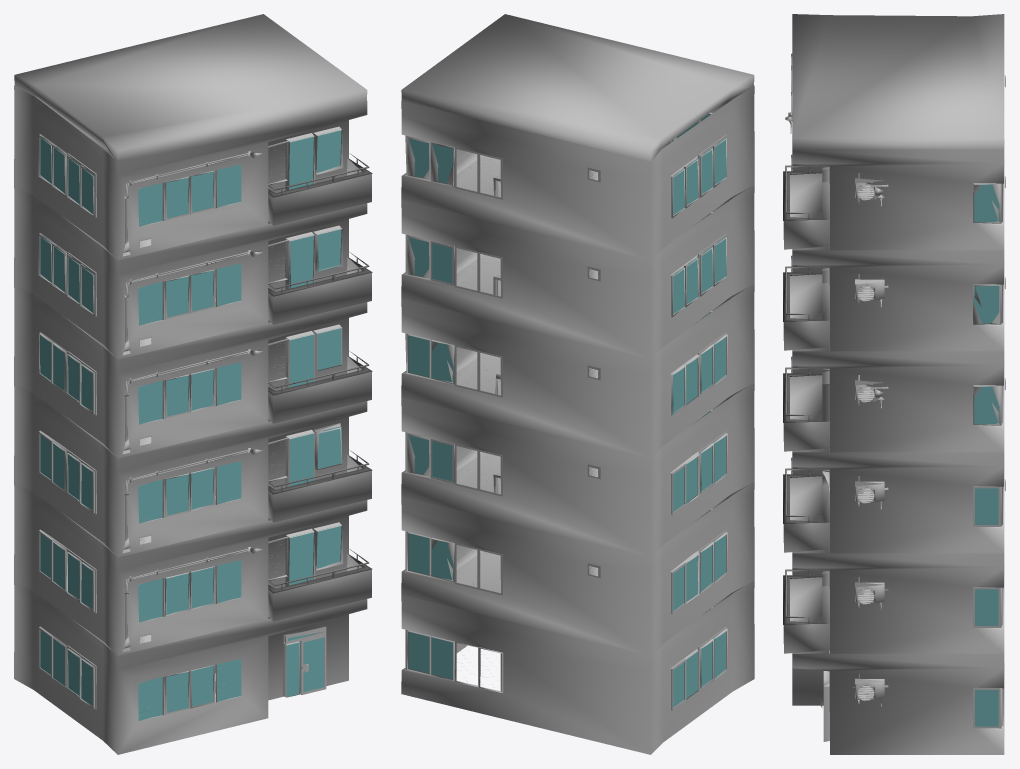
The model's file is apartment_building_04_LOD1.fbx.
3 renders of one model, left to right at view 1: azimuth 30°, elevation 25°; view 2: azimuth 150°, elevation 25°; view 3: azimuth 270°, elevation 25°, orthographic. The views are drawn at different scales.
Parts seen in each view (by area): view 1: Box678.010; view 2: Box678.010; view 3: Box678.010.
Boxes of the visible parts, box(x1,y1,x2,y2) form: Box678.010: box(14, 14, 372, 754); Box678.010: box(401, 14, 754, 754); Box678.010: box(783, 14, 1005, 754).
Size of the model in its own units: 1106 by 2420 by 792.
